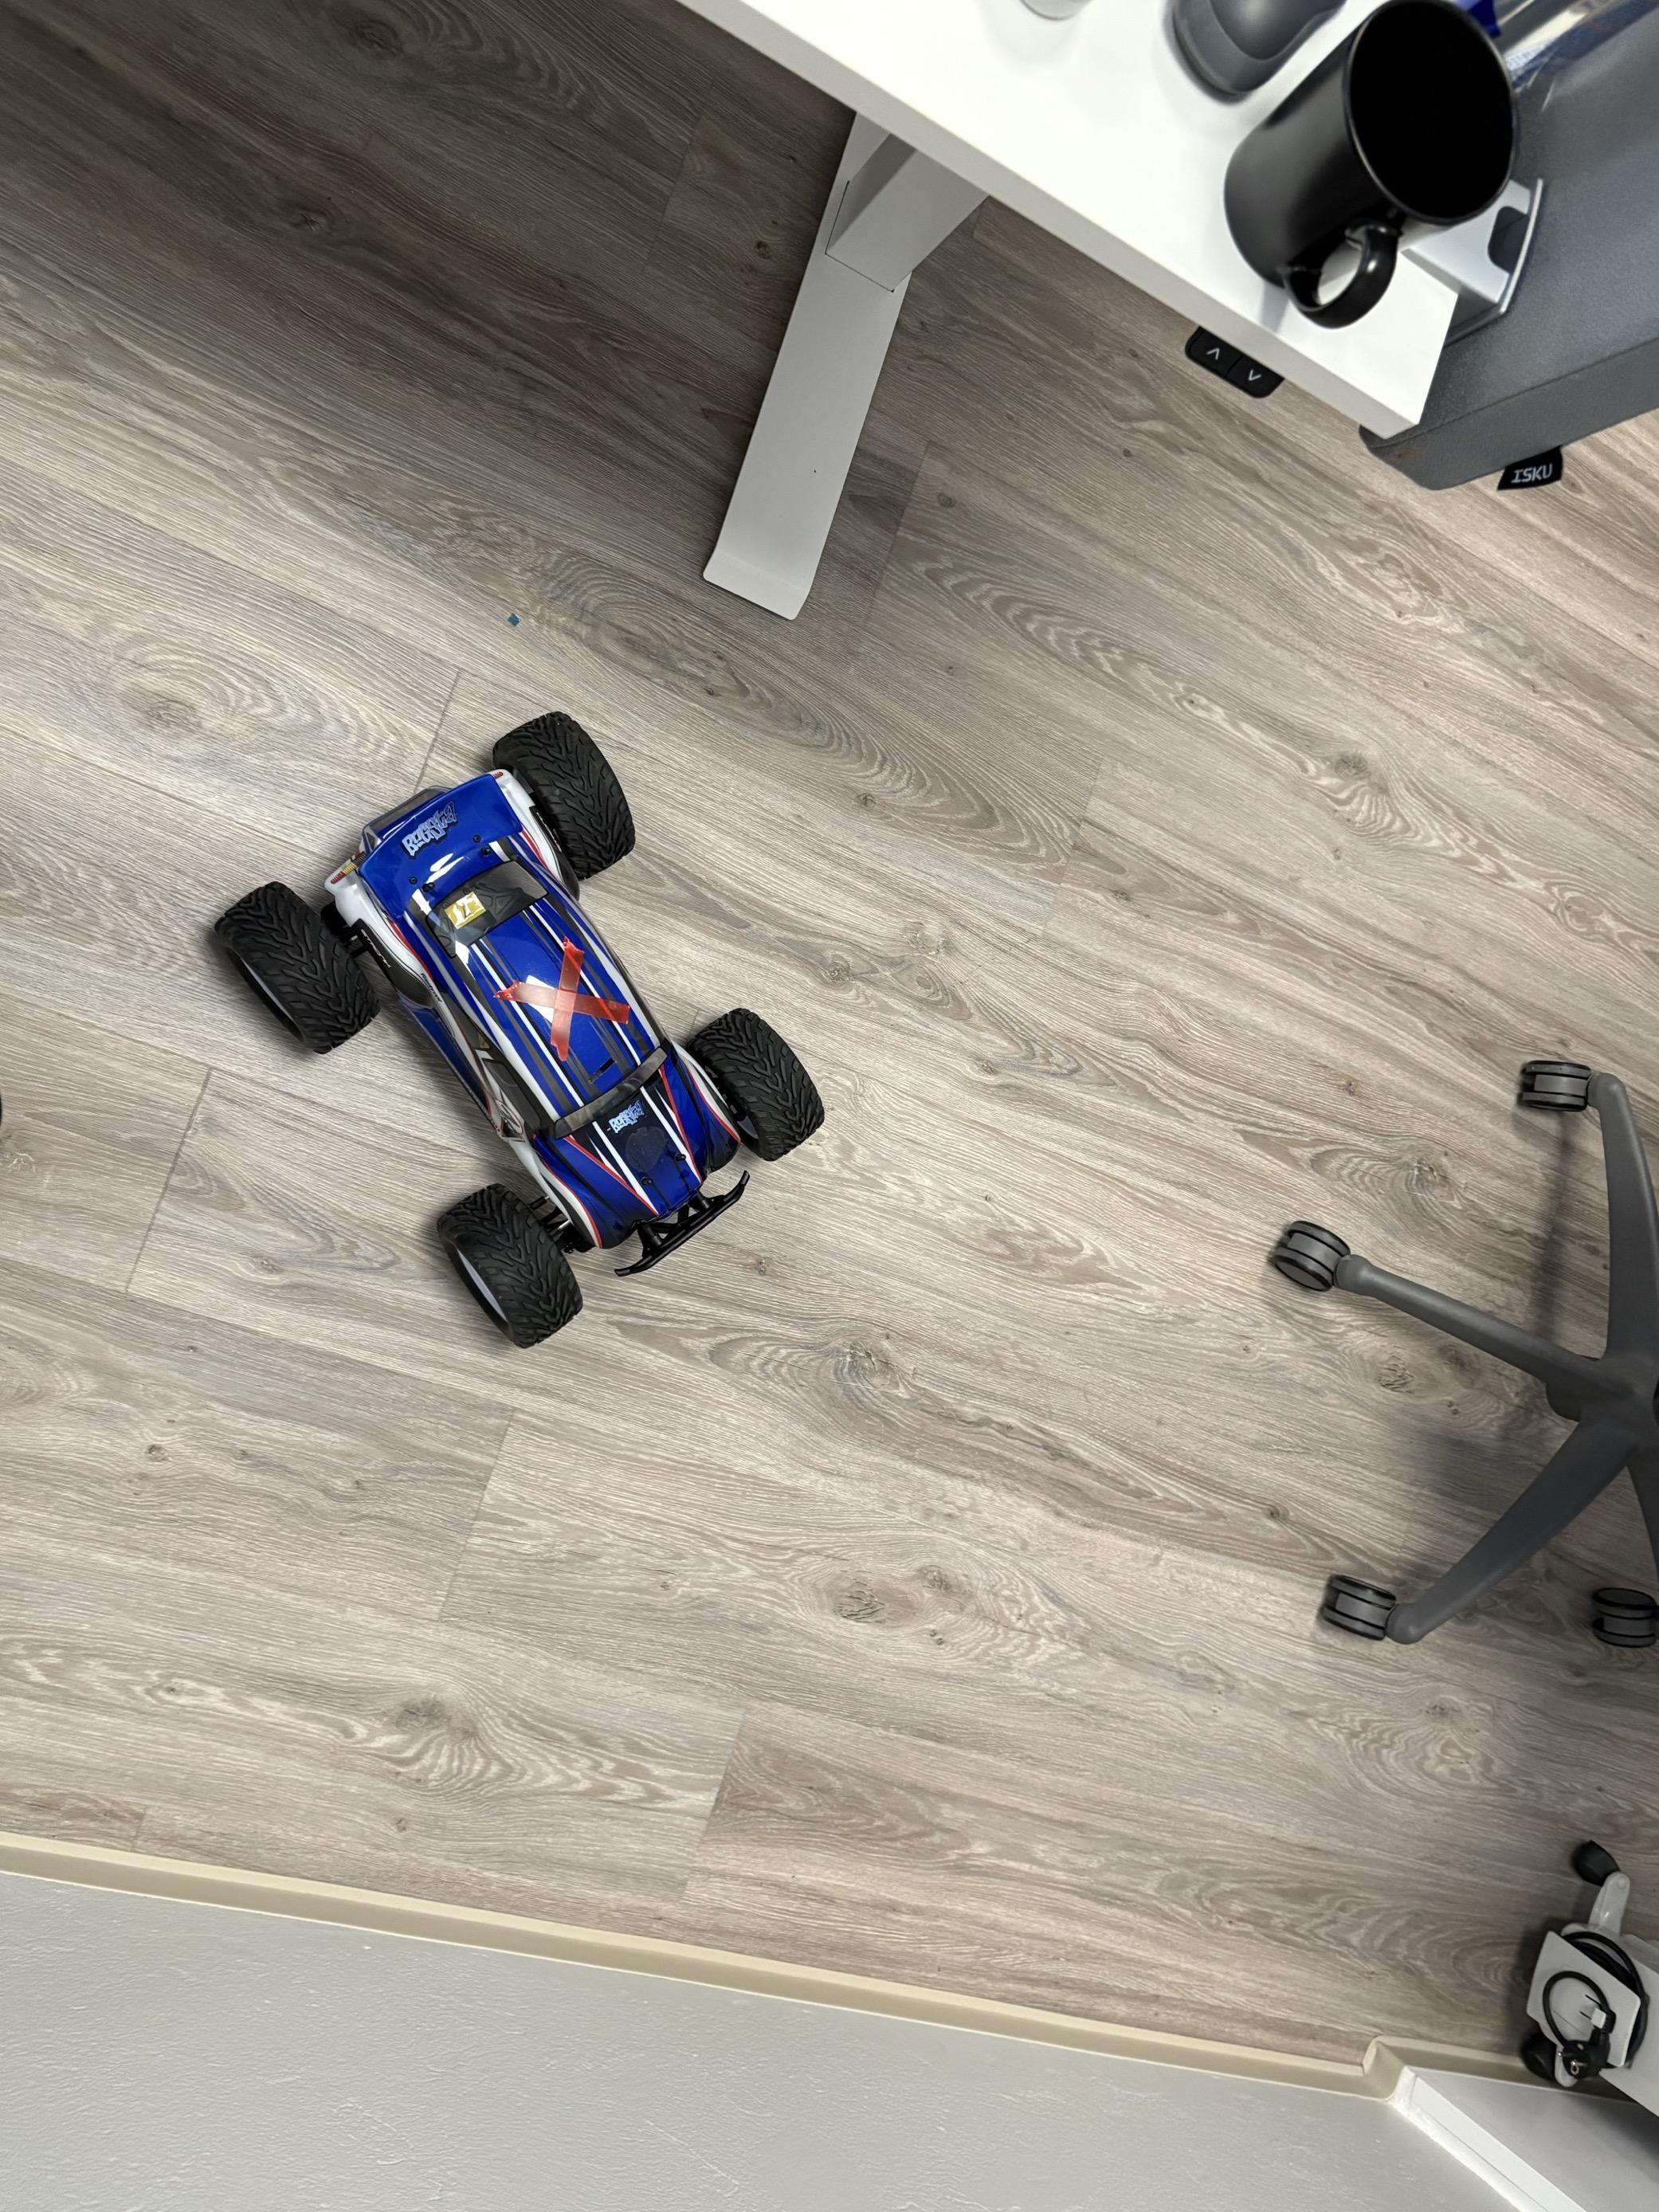Car: (159, 641, 908, 1439)
